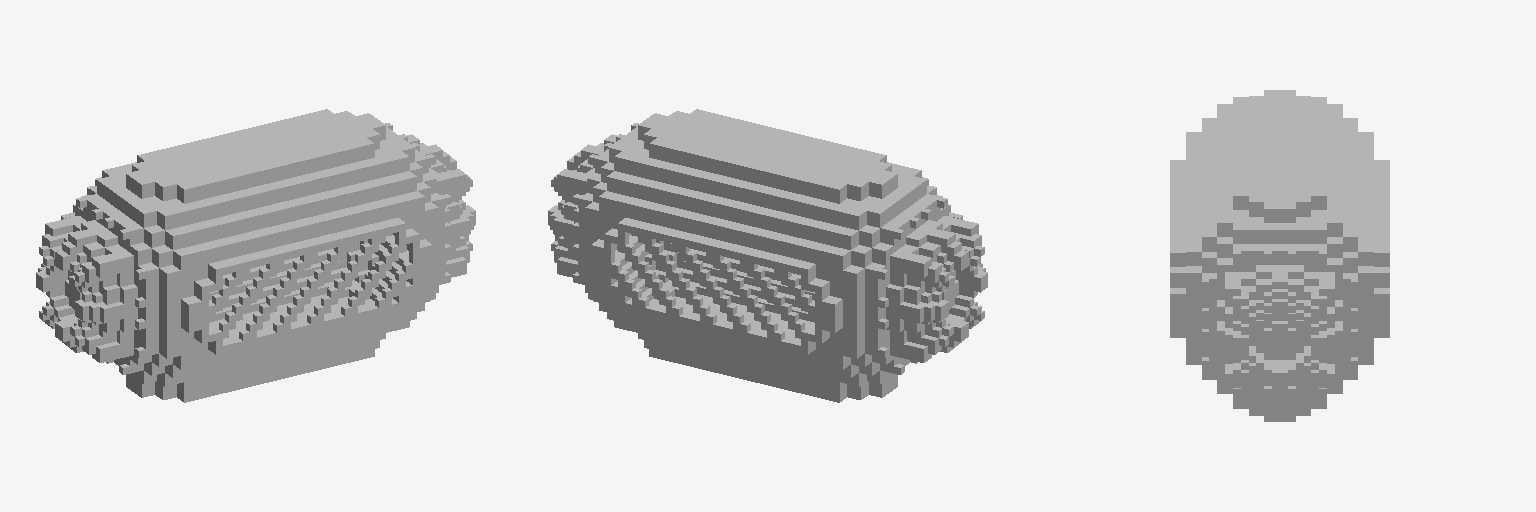
The model's file is power_gen-0.obj.
3 views of the same model, side by side, from view 1: azimuth 30°, elevation 25°; view 2: azimuth 150°, elevation 25°; view 3: azimuth 270°, elevation 25° (orthographic).
Visible parts, largest first — view 1: power_gen-0; view 2: power_gen-0; view 3: power_gen-0.
Part boxes in pixels (left/top/right/bottom): power_gen-0: left=36, top=109, right=475, bottom=402; power_gen-0: left=548, top=109, right=987, bottom=402; power_gen-0: left=1170, top=90, right=1389, bottom=421.
Bounding box in the file's own units: 58 × 30 × 28.